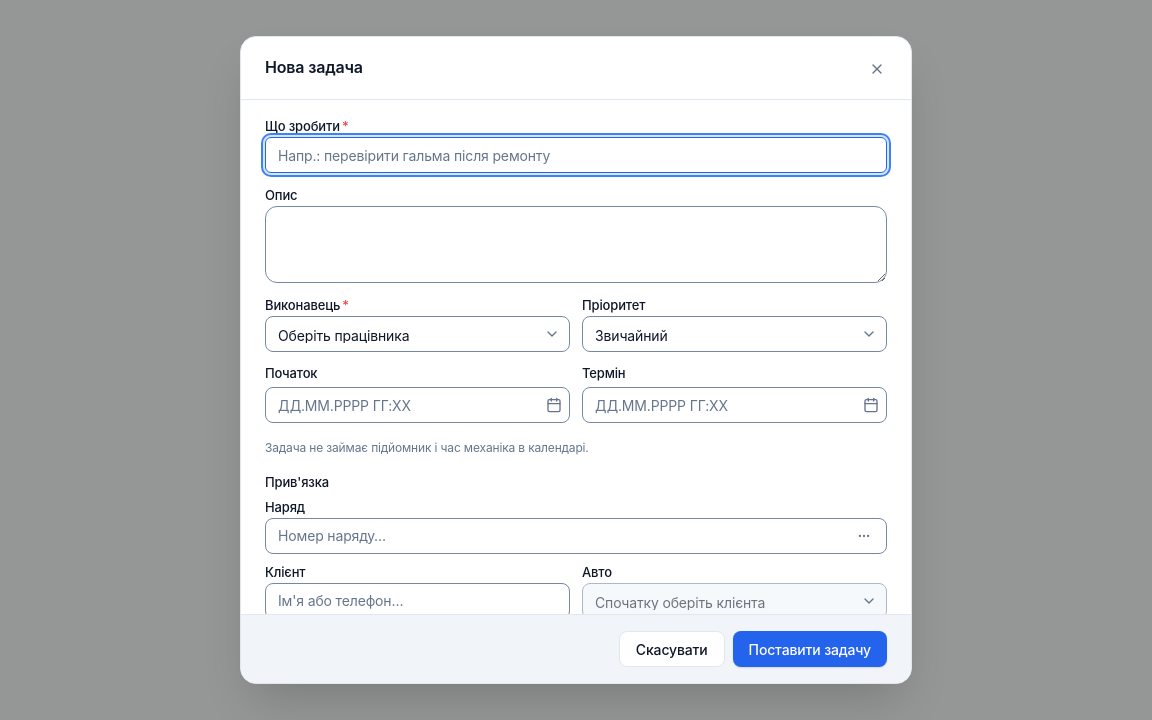
Test case: Картка задачі — керівник › порожня назва — помилка українською, запиту немає; помилки немає до спроби зберегти
The width and height of the screenshot is (1152, 720).
Check: the text "Вкажіть, що треба зробити" is not shown
Click the button "Поставити задачу": (810, 649) [733,631,887,667]
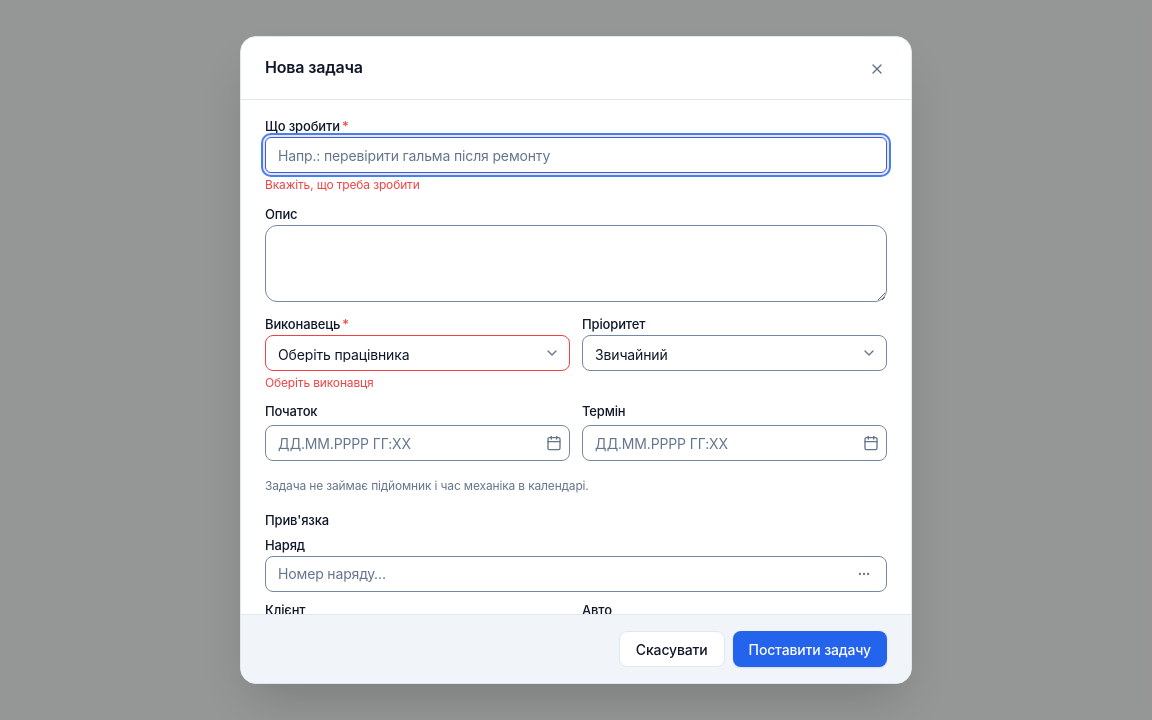
Check: the text "Вкажіть, що треба зробити" is shown, box [265,177,420,192]
